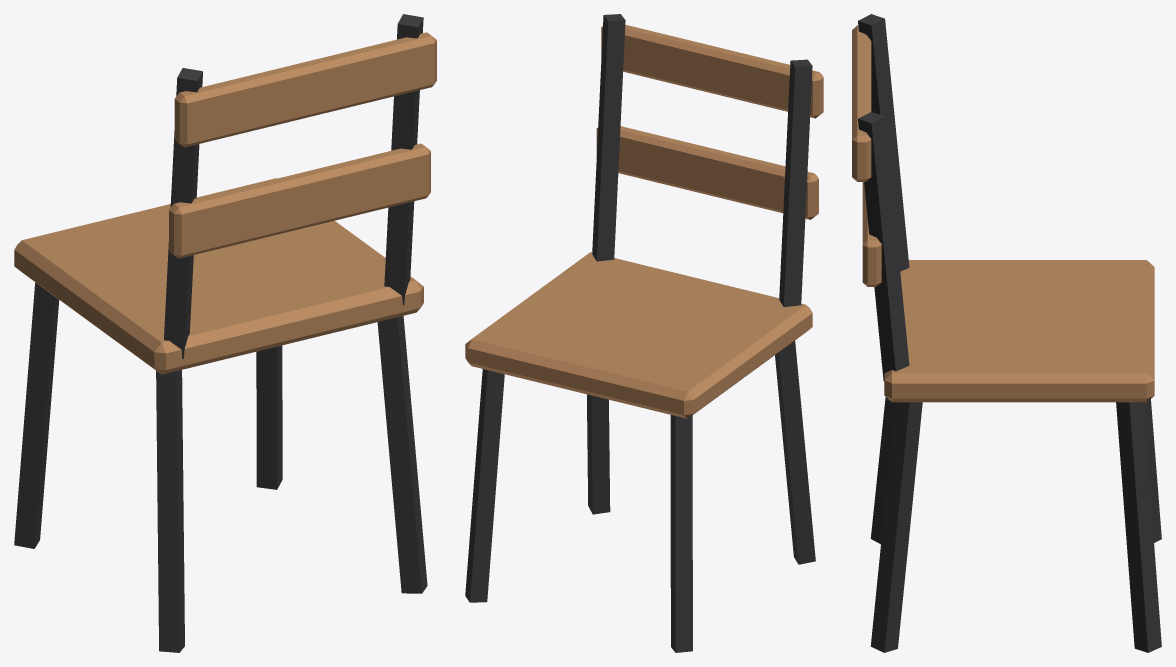
File: seat_cafe-table_v2.glb
3 renders of one model, left to right at view 1: azimuth 30°, elevation 25°; view 2: azimuth 150°, elevation 25°; view 3: azimuth 270°, elevation 25°, orthographic. The views are drawn at different scales.
Visible parts, largest first — view 1: body; view 2: body; view 3: body.
Part boxes in pixels (x1,y1,x2,y2): body: [14, 14, 436, 652]; body: [465, 14, 823, 652]; body: [852, 14, 1161, 652].
Size of the model in its own units: 0.44 by 0.9038 by 0.4813.
